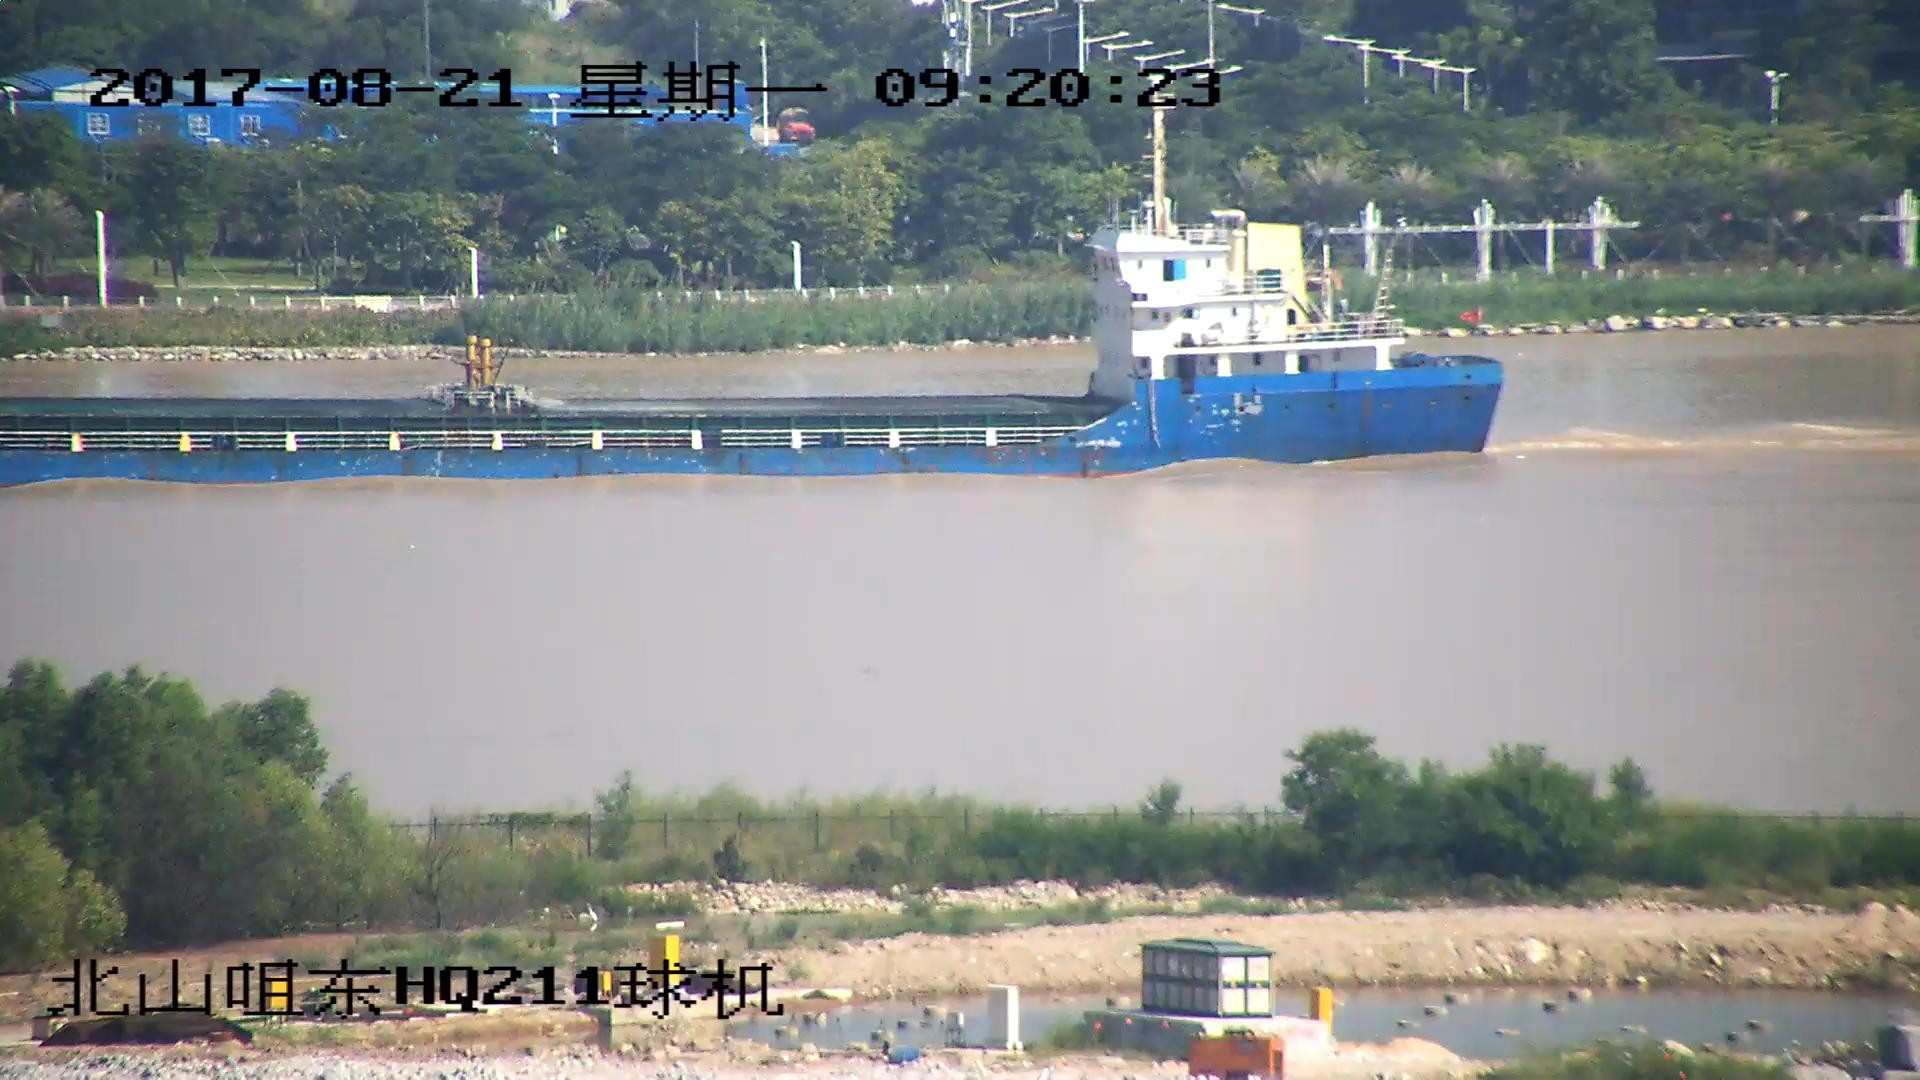general cargo ship: (1, 117, 1506, 482)
